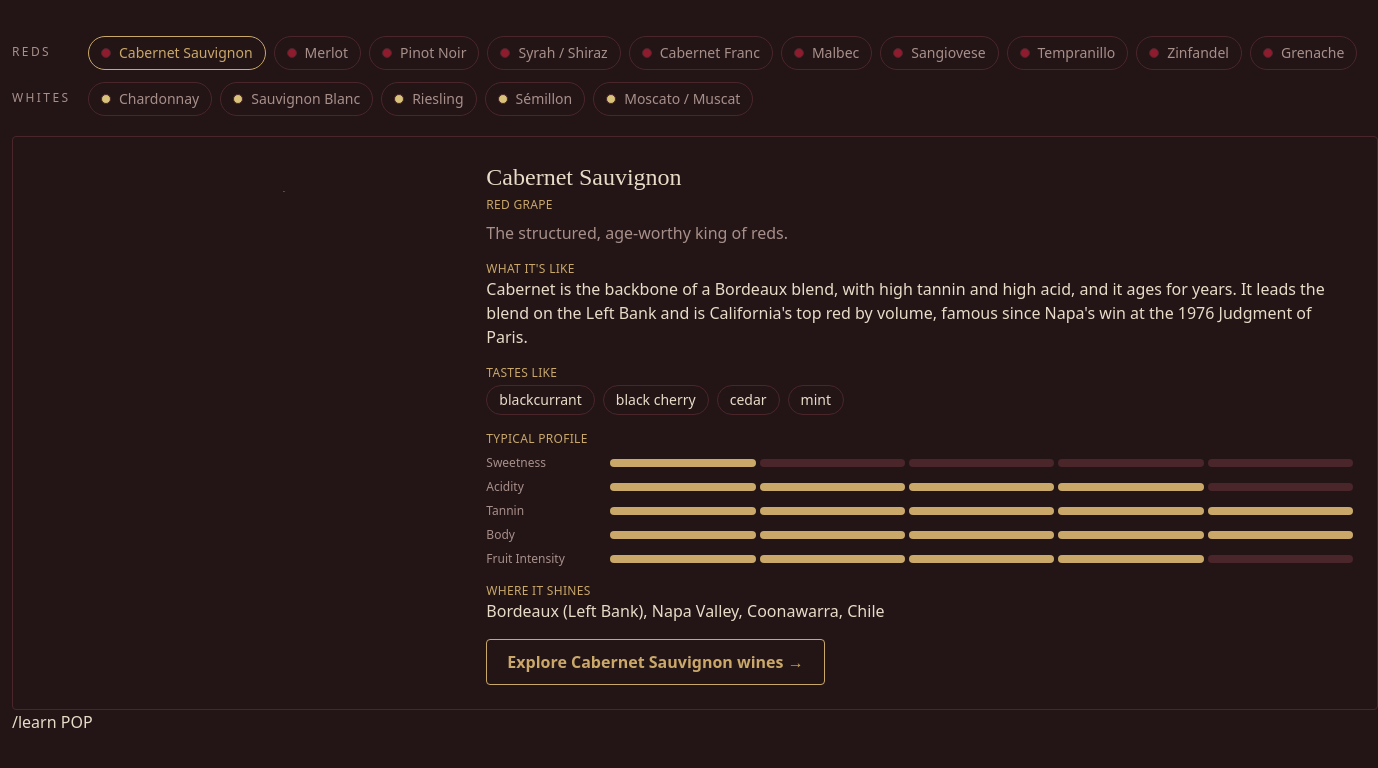
Test: GrapesChapter › writes the selection to the hash without a new history entry
This screenshot has width=1378, height=768.
Click the tab "Pinot Noir" at (424, 53), box [369,36,480,70]
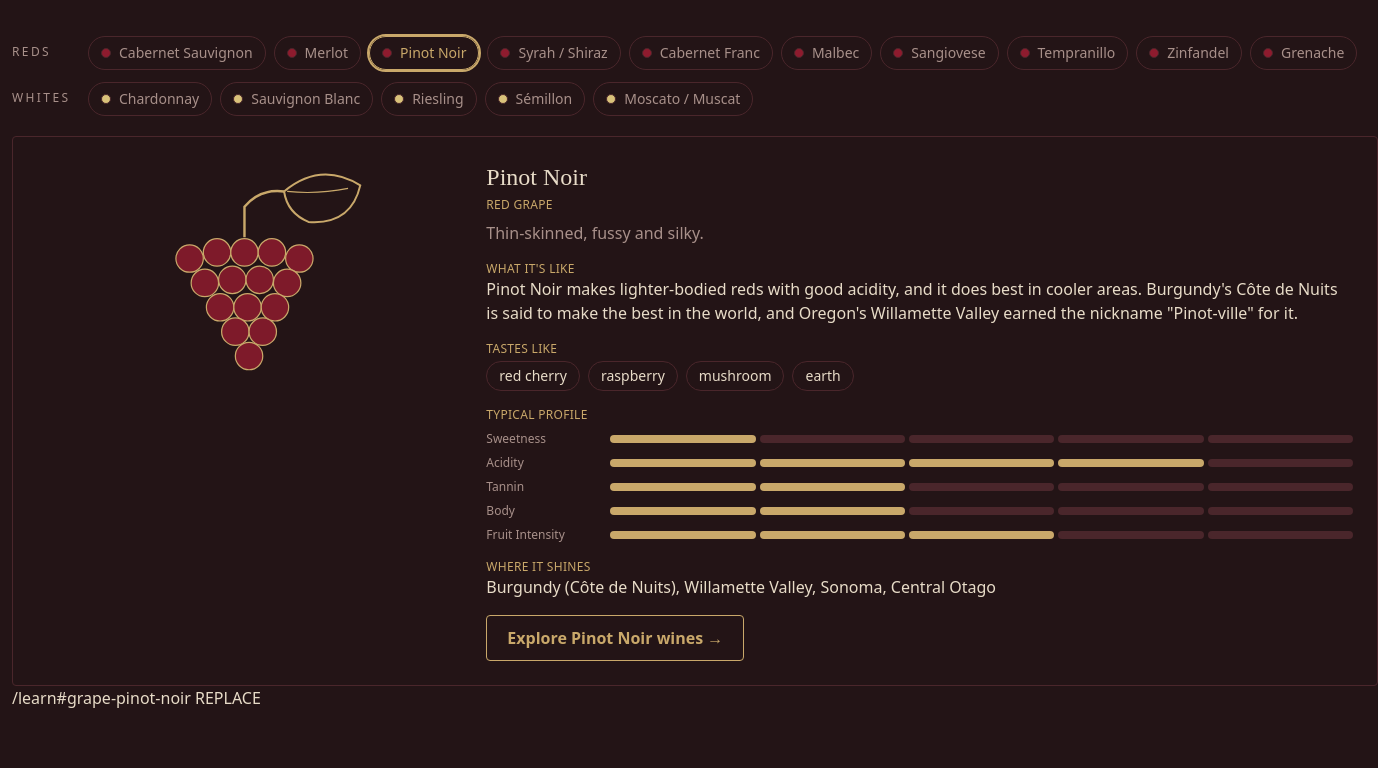
Now the panel "Pinot Noir" is shown
Now the text with test id "location" reads "/learn#grape-pinot-noir REPLACE", box [12,687,261,709]
